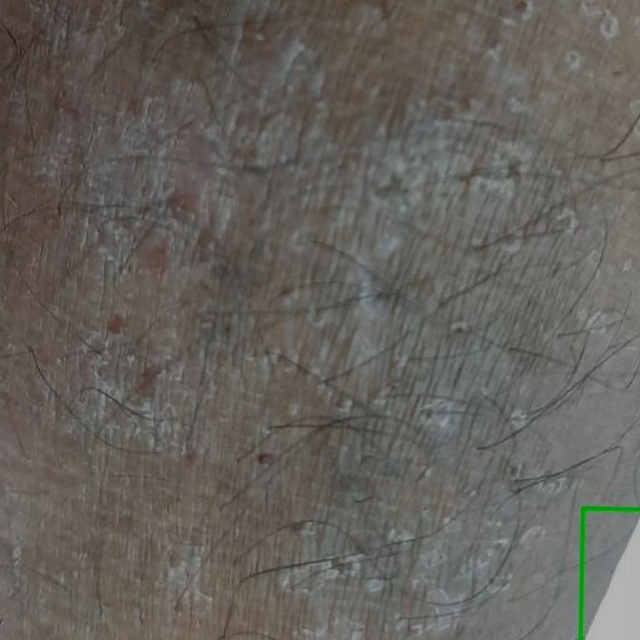Contact Dermatitis: (580, 507, 639, 639)
